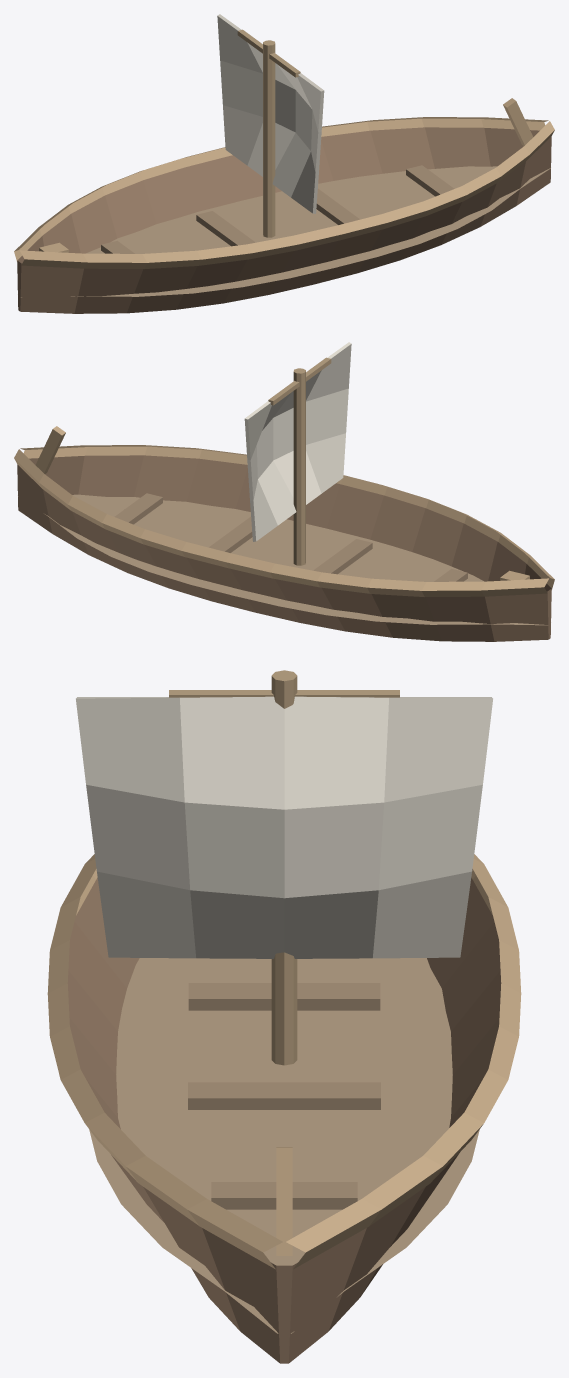
File: boat.glb
3 views of the same model, one above another, from view 1: azimuth 30°, elevation 25°; view 2: azimuth 150°, elevation 25°; view 3: azimuth 270°, elevation 25° (orthographic). The views are drawn at different scales.
Visible parts, largest first — view 1: boat_hull, boat_rim, boat_deck, boat_sail, boat_mast, boat_bench_1, boat_bench_3, boat_bench_2, boat_stem, boat_yard; view 2: boat_hull, boat_rim, boat_deck, boat_sail, boat_mast, boat_bench_1, boat_bench_3, boat_bench_2, boat_stem, boat_yard; view 3: boat_sail, boat_deck, boat_hull, boat_rim, boat_bench_2, boat_bench_1, boat_mast, boat_bench_3, boat_stem, boat_yard.
Boxes of the visible parts, <box> form: boat_hull: <box>17,127,551,313</box>; boat_rim: <box>14,117,554,268</box>; boat_deck: <box>21,166,550,297</box>; boat_sail: <box>217,14,324,213</box>; boat_mast: <box>263,40,275,237</box>; boat_bench_1: <box>196,211,255,246</box>; boat_bench_3: <box>406,165,454,196</box>; boat_bench_2: <box>316,188,359,224</box>; boat_stem: <box>503,98,533,145</box>; boat_yard: <box>237,29,300,77</box>; boat_hull: <box>17,455,551,641</box>; boat_rim: <box>14,445,554,596</box>; boat_deck: <box>18,494,547,625</box>; boat_sail: <box>244,342,351,541</box>; boat_mast: <box>293,368,305,565</box>; boat_bench_1: <box>313,539,372,574</box>; boat_bench_3: <box>114,493,162,524</box>; boat_bench_2: <box>209,516,252,552</box>; boat_stem: <box>35,426,65,473</box>; boat_yard: <box>268,357,331,405</box>; boat_sail: <box>76,696,492,958</box>; boat_deck: <box>89,958,479,1333</box>; boat_hull: <box>67,877,501,1363</box>; boat_rim: <box>47,854,521,1269</box>; boat_bench_2: <box>188,1082,380,1109</box>; boat_bench_1: <box>188,983,380,1010</box>; boat_mast: <box>271,670,297,1065</box>; boat_bench_3: <box>211,1182,357,1209</box>; boat_stem: <box>276,1147,292,1255</box>; boat_yard: <box>169,690,399,697</box>.
Bounding box in the file's own units: 5.2 × 2.1 × 2.01.
